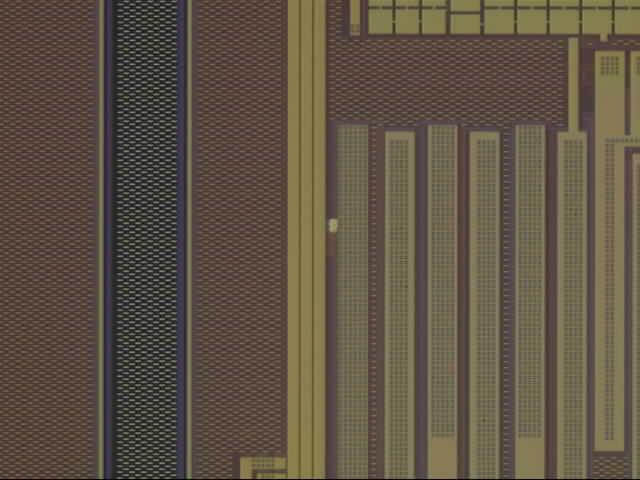BLOCK ETCH: (323, 215, 346, 237)
